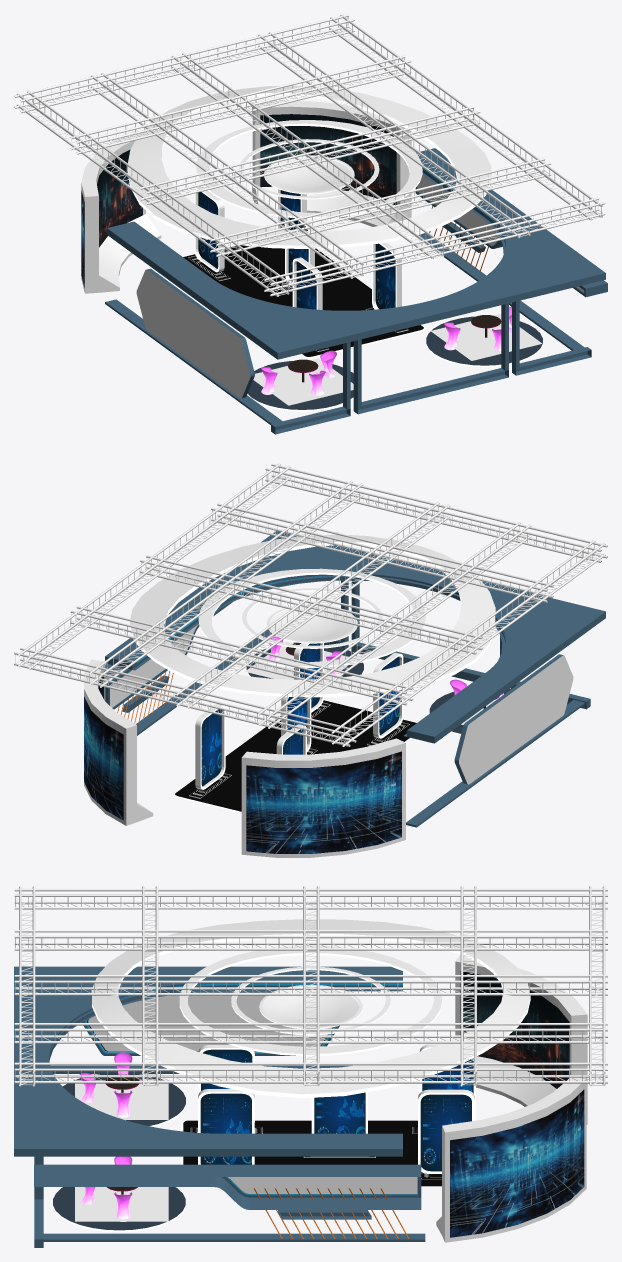
File: Land Assets.fbx
3 renders of one model, top to bottom at view 1: azimuth 30°, elevation 25°; view 2: azimuth 150°, elevation 25°; view 3: azimuth 270°, elevation 25°, orthographic. The views are drawn at different scales.
Visible parts, largest first — view 1: Truss, WallDesign, CeilingDesign, BannerPiller, Screen1, Base, Table, Banner_Design, Compass, Screen2; view 2: Truss, BannerPiller, WallDesign, CeilingDesign, Screen1, Banner_Design, Base, Table, Screen2, Compass; view 3: Truss, WallDesign, BannerPiller, CeilingDesign, Banner_Design, Screen1, Compass, Table, Base, Screen2.
Part boxes in pixels (bbox=[...]): Truss: bbox=[14, 14, 605, 296]; WallDesign: bbox=[105, 148, 607, 434]; CeilingDesign: bbox=[127, 85, 491, 248]; BannerPiller: bbox=[81, 100, 411, 293]; Screen1: bbox=[136, 269, 250, 398]; Base: bbox=[183, 244, 425, 358]; Table: bbox=[247, 306, 542, 411]; Banner_Design: bbox=[194, 187, 401, 309]; Compass: bbox=[253, 314, 542, 405]; Screen2: bbox=[417, 175, 583, 292]; Truss: bbox=[14, 463, 607, 746]; BannerPiller: bbox=[84, 659, 405, 857]; WallDesign: bbox=[105, 531, 605, 827]; CeilingDesign: bbox=[129, 534, 495, 697]; Screen1: bbox=[459, 655, 573, 784]; Banner_Design: bbox=[195, 643, 403, 789]; Base: bbox=[173, 700, 417, 813]; Table: bbox=[246, 635, 510, 735]; Screen2: bbox=[110, 624, 198, 707]; Compass: bbox=[245, 641, 494, 724]; Truss: bbox=[14, 886, 607, 1086]; WallDesign: bbox=[14, 966, 425, 1247]; BannerPiller: bbox=[436, 955, 587, 1242]; CeilingDesign: bbox=[91, 919, 530, 1098]; Banner_Design: bbox=[198, 1044, 475, 1173]; Screen1: bbox=[88, 992, 333, 1052]; Compass: bbox=[75, 1080, 168, 1221]; Table: bbox=[53, 1052, 185, 1232]; Base: bbox=[181, 1120, 441, 1187]; Screen2: bbox=[228, 1177, 417, 1193].
Bounding box in the file's own units: 1547 × 682 × 2036.
